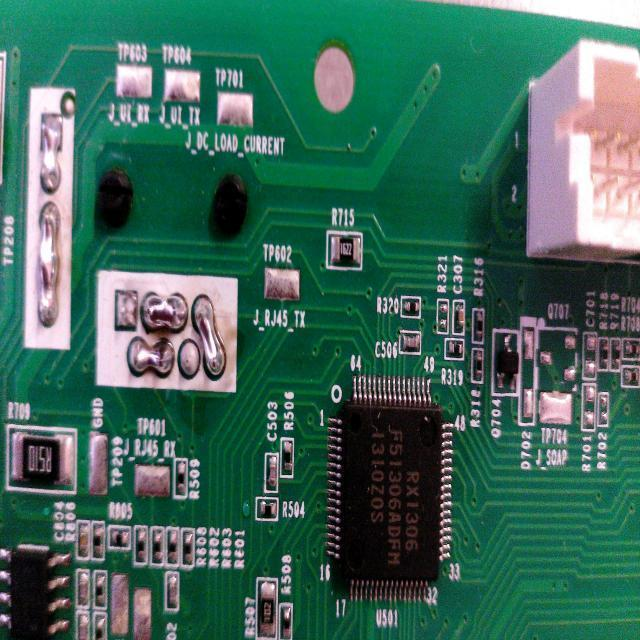Soldering shorted: (190, 288, 230, 390), (36, 195, 64, 329), (139, 291, 187, 337), (128, 336, 176, 382), (38, 112, 62, 198)
